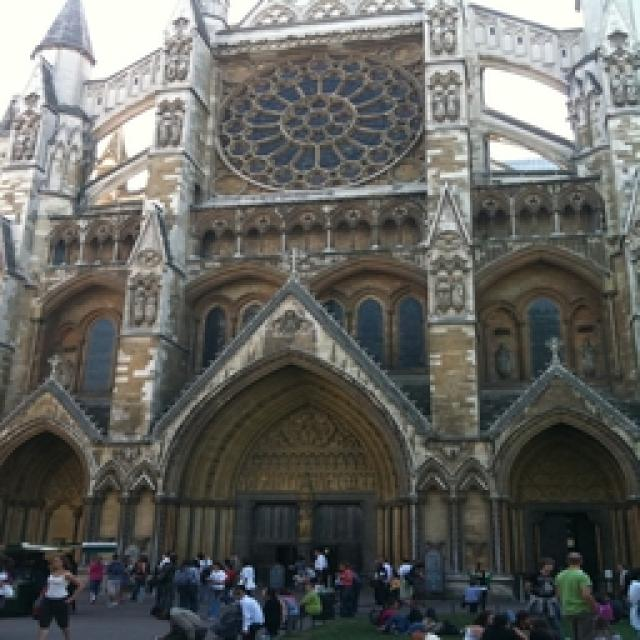Abbey: (4, 2, 640, 570)
